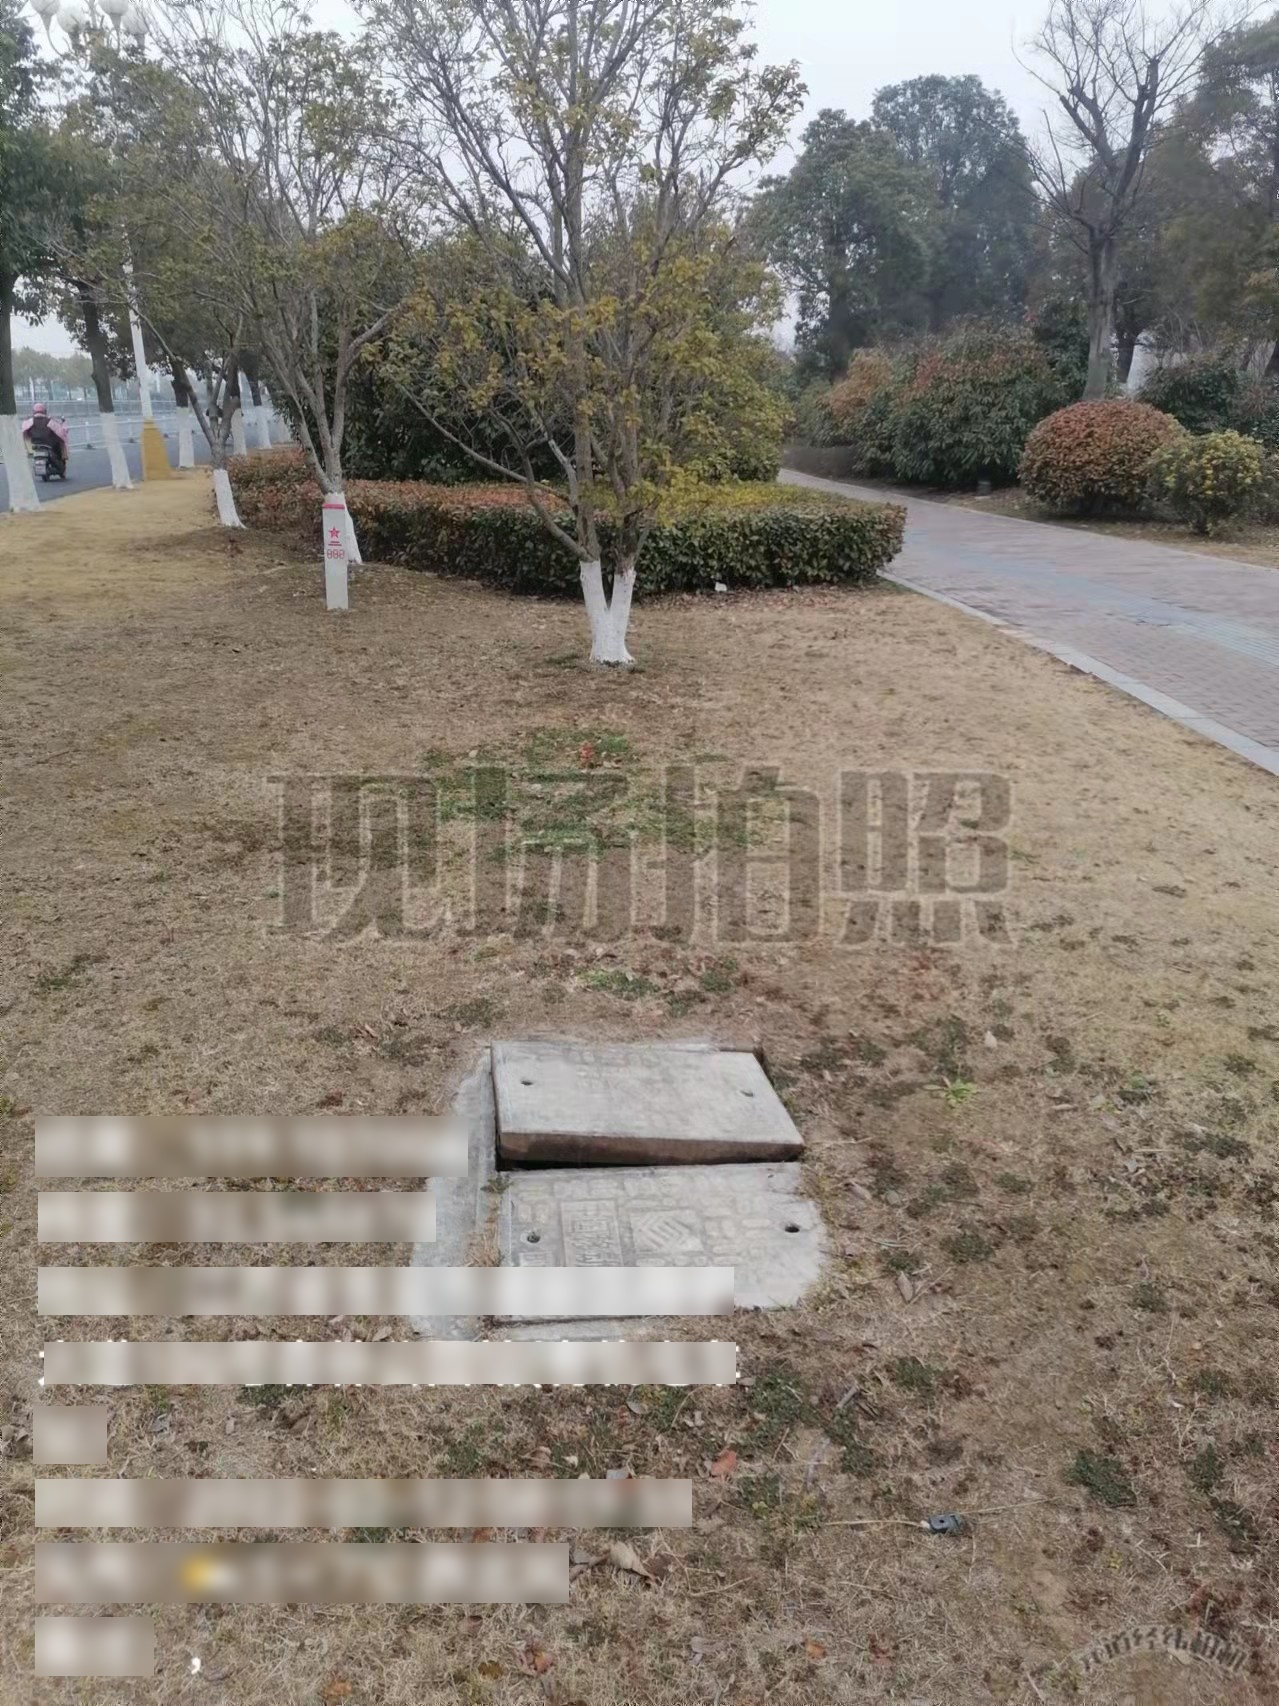uncovered: (473, 1033, 854, 1337)
